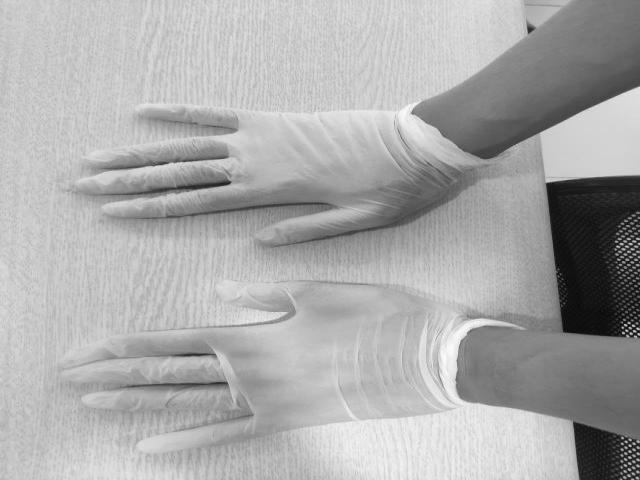gloved: (68, 280, 434, 448), (71, 102, 415, 244)
